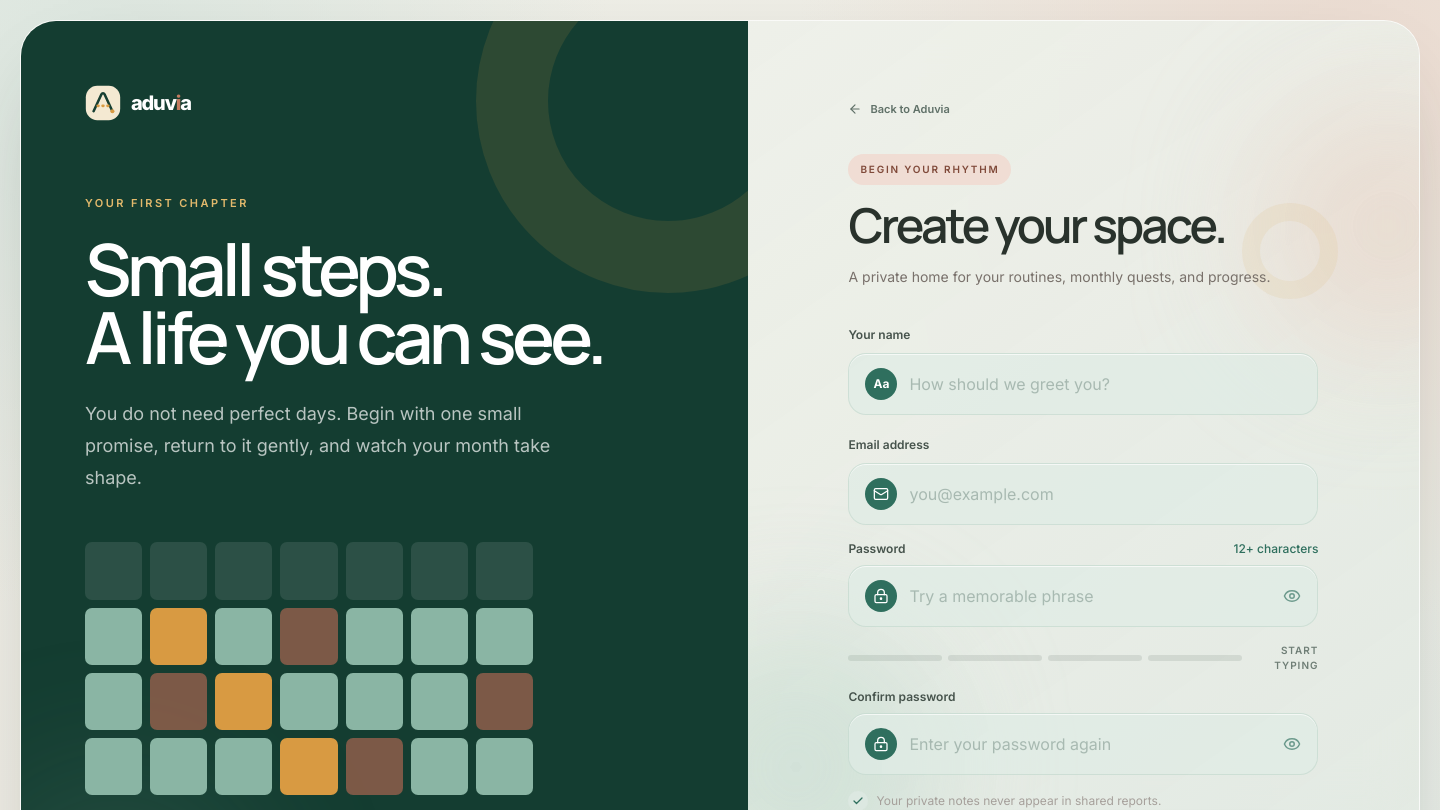
Scenario: AuthScreen › requires the retyped password to match
Type "Rithwik" into the field with placeholder "How should we greet you?" at (1106, 384), box 910,372 -> 1302,396
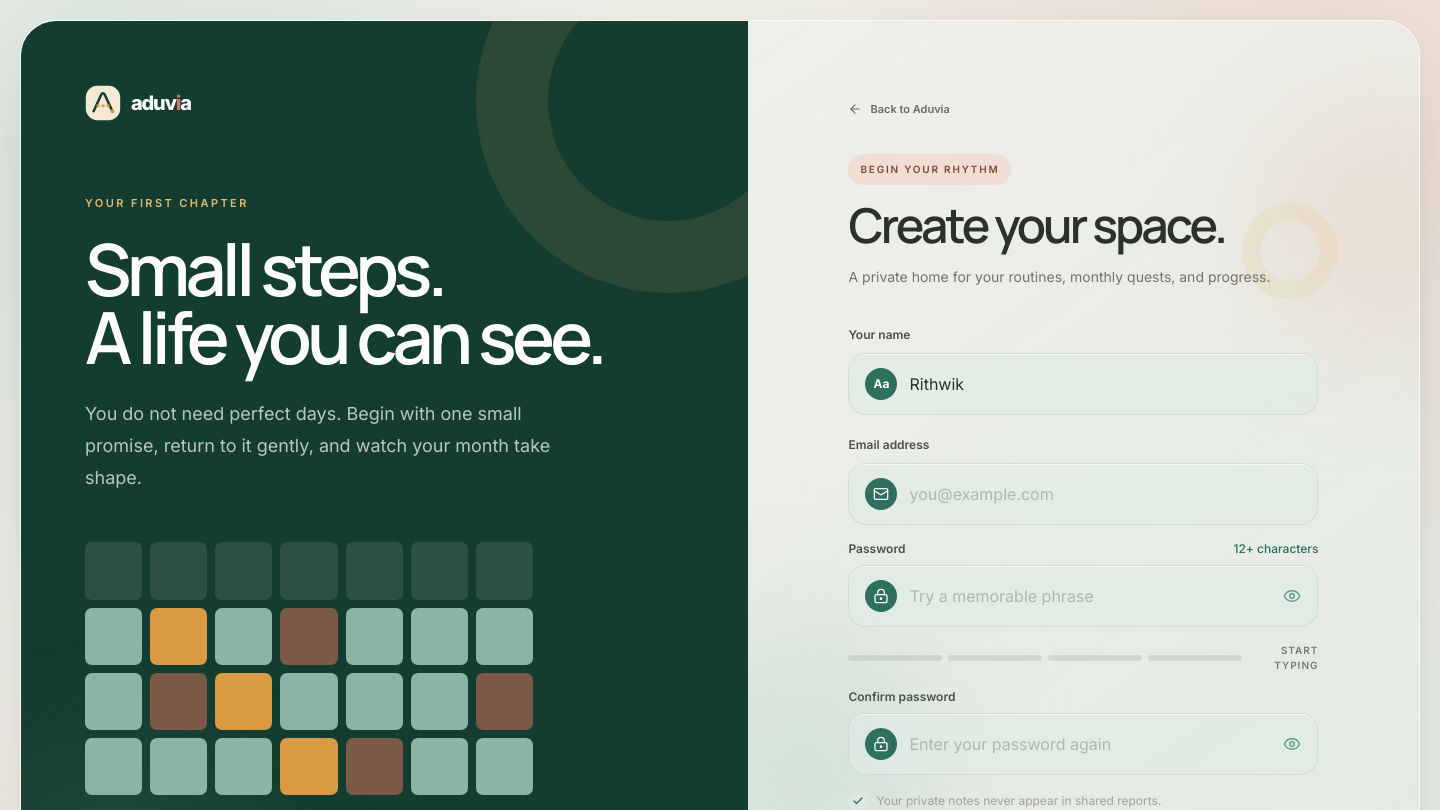
Type "rithwik@example.com" into the field with placeholder "you@example.com" at (1106, 494), box 910,482 -> 1302,506
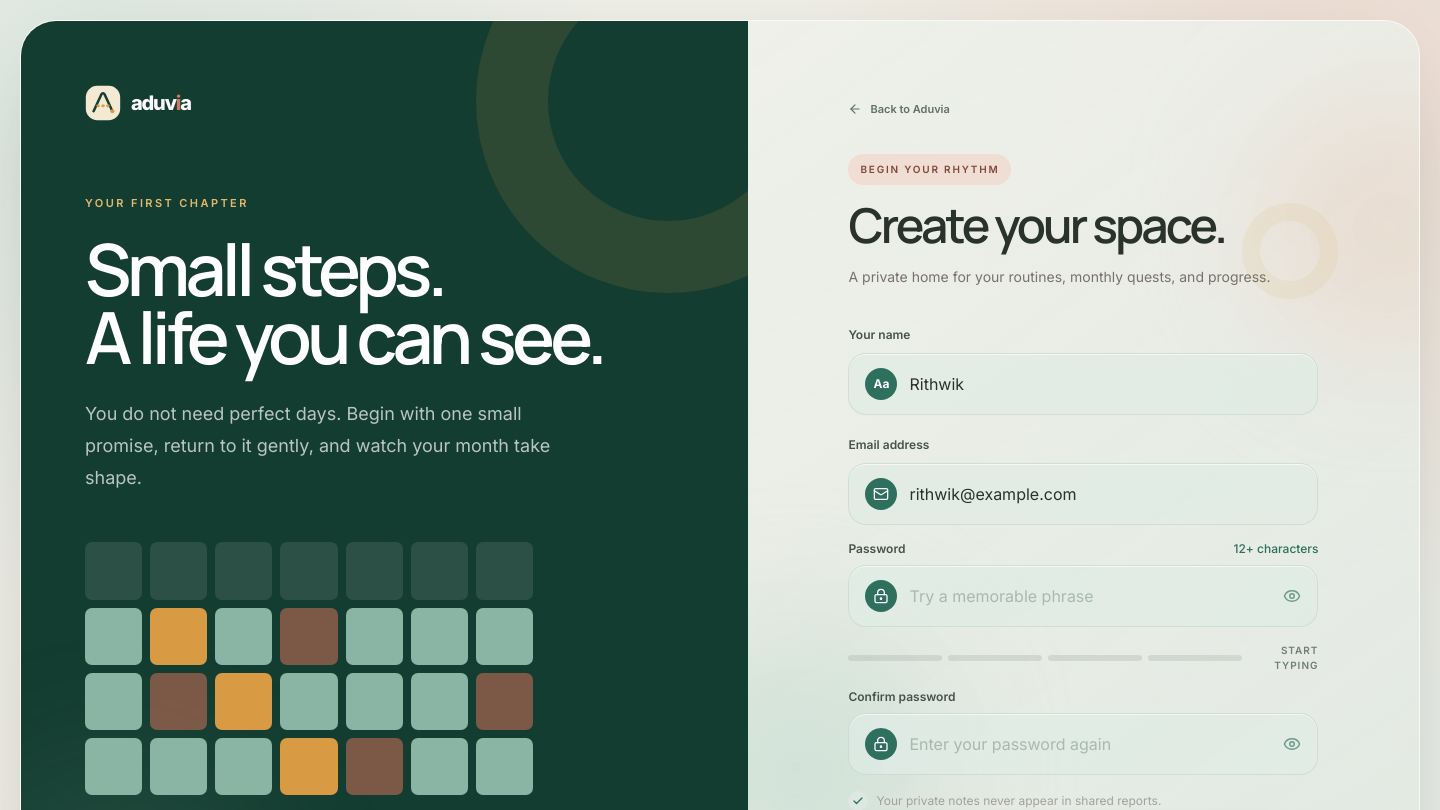
Type "a quiet morning ritual" into the password field with placeholder "Try a memorable phrase" at (1090, 596), box 910,584 -> 1272,608
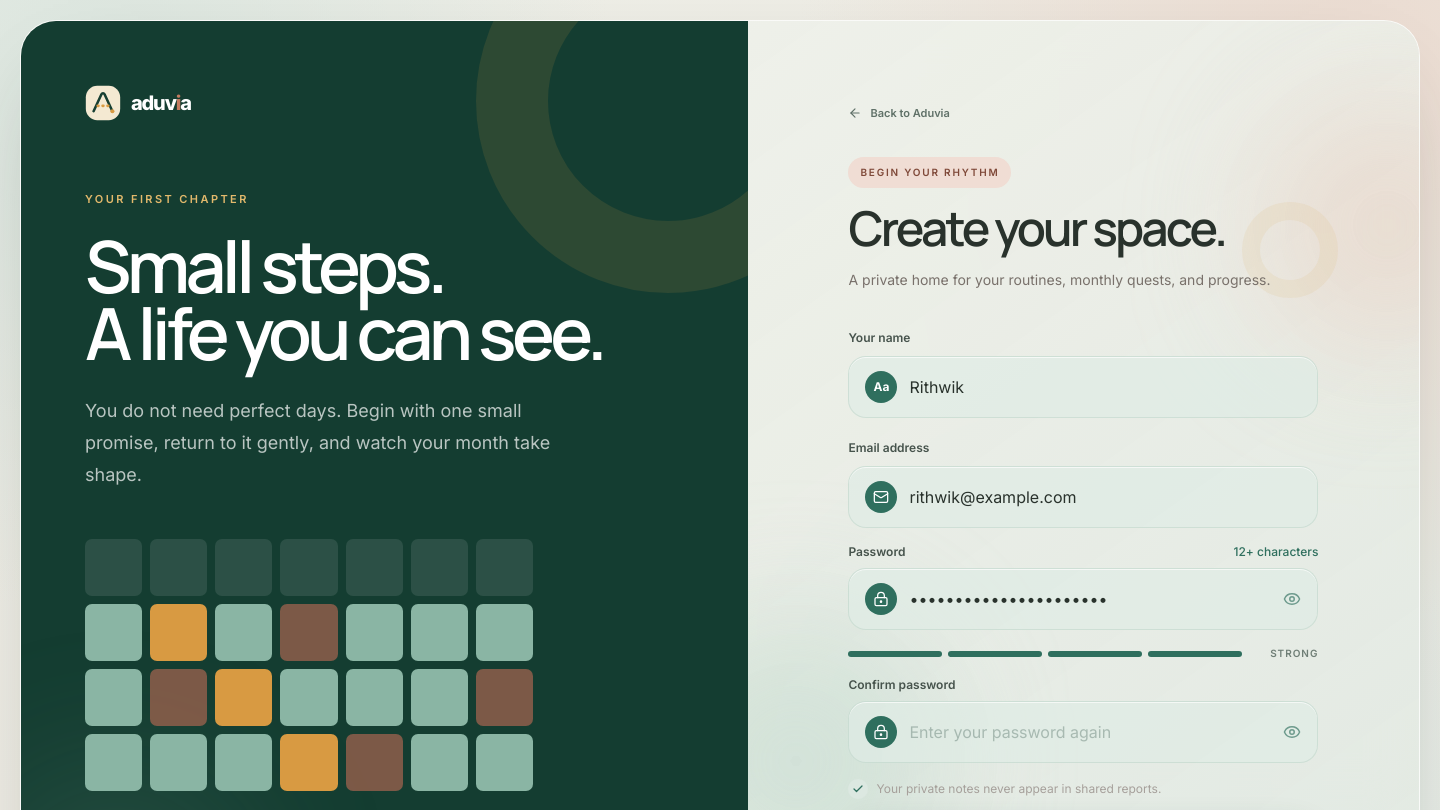
Type "a different morning ritual" into the password field with placeholder "Enter your password again" at (1090, 732), box 910,720 -> 1272,744
(page scrolled)
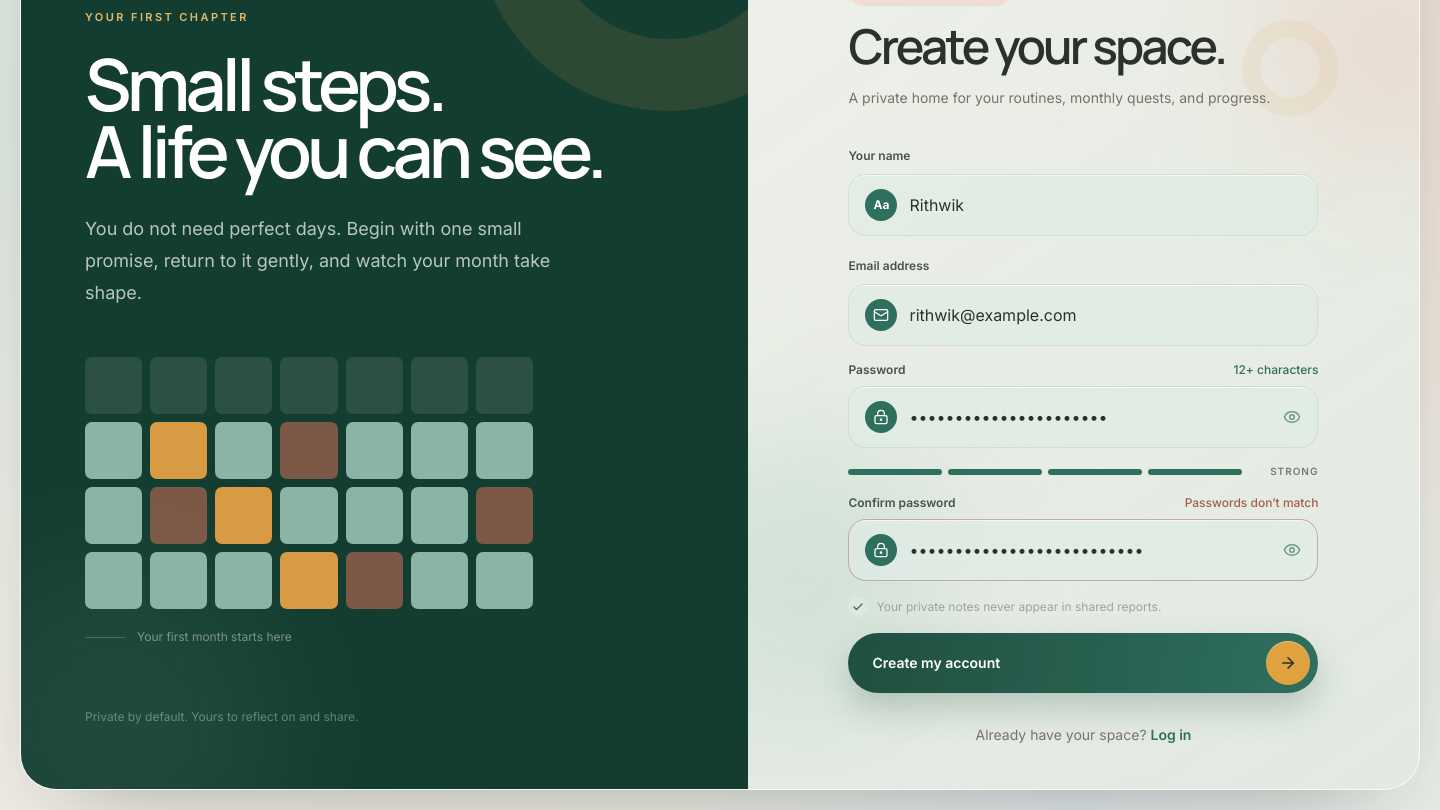
Submit the form named "Create my account", box 848,142 -> 1318,694
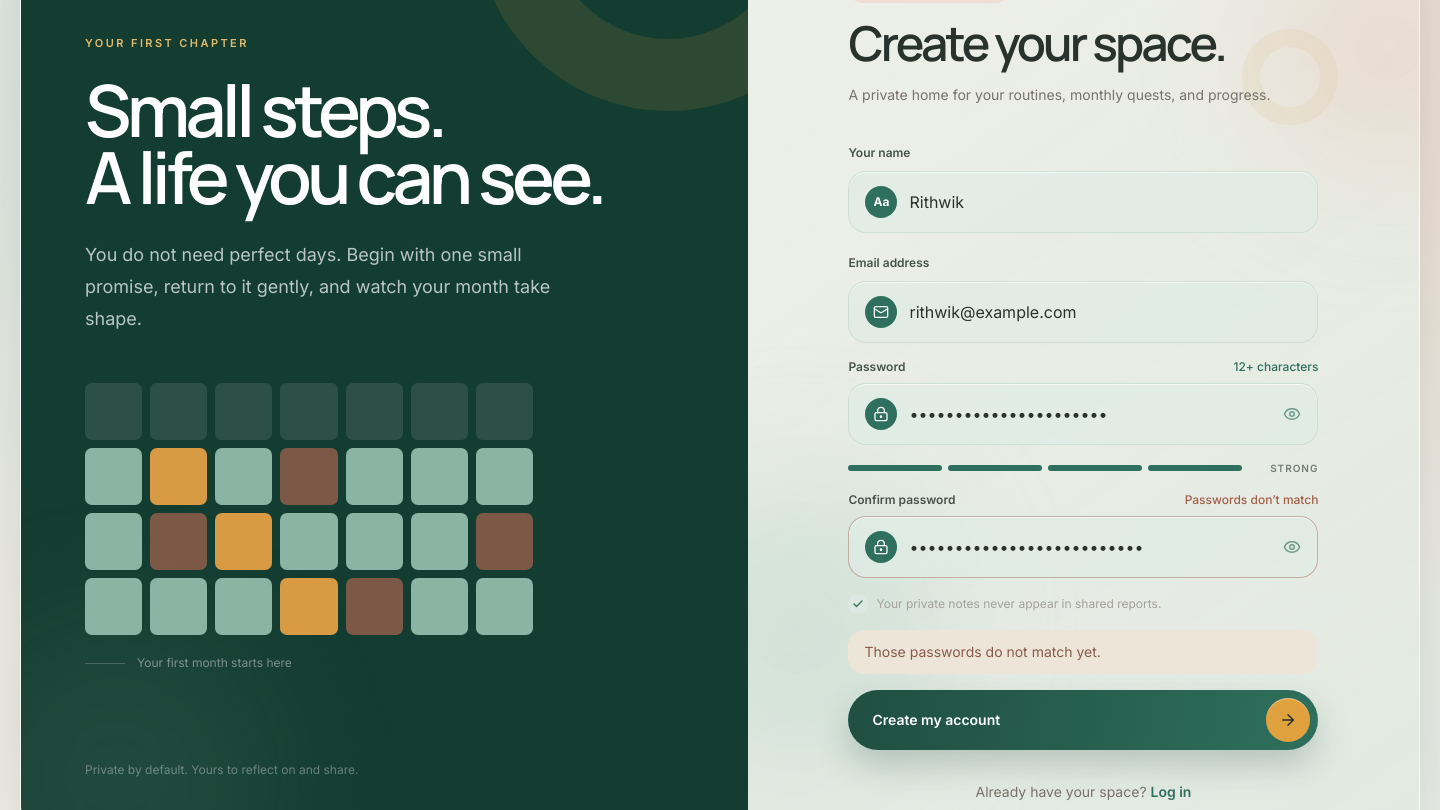
Expected: the message reads "Those passwords do not match yet.", 864,642 -> 1101,660
